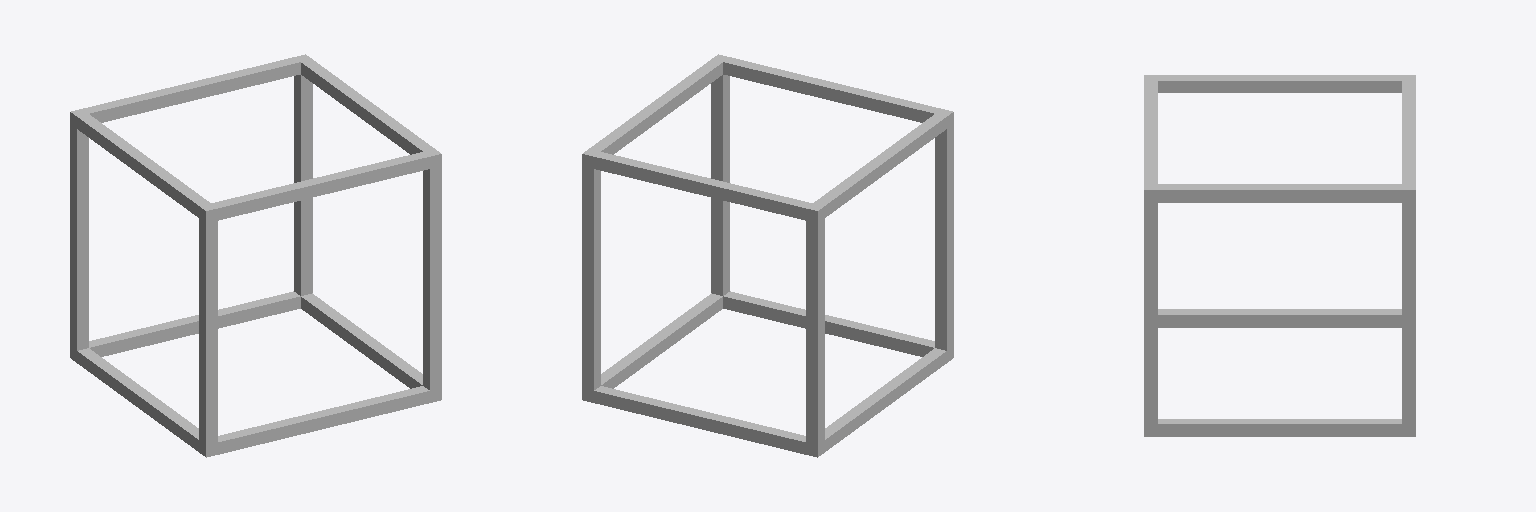
File: boxFrame.obj
3 views of the same model, side by side, from view 1: azimuth 30°, elevation 25°; view 2: azimuth 150°, elevation 25°; view 3: azimuth 270°, elevation 25° (orthographic).
Parts seen in each view (by area): view 1: Cube; view 2: Cube; view 3: Cube.
Part boxes in pixels (x1,y1,x2,y2): Cube: (70, 54, 441, 457); Cube: (582, 54, 953, 457); Cube: (1144, 75, 1415, 436).
Bounding box in the file's own units: 2 × 2 × 2.